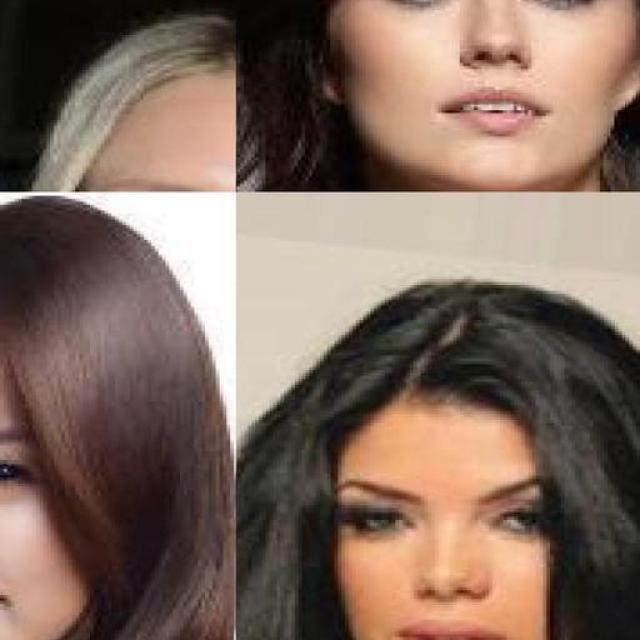bareface: (340, 380, 556, 640)
